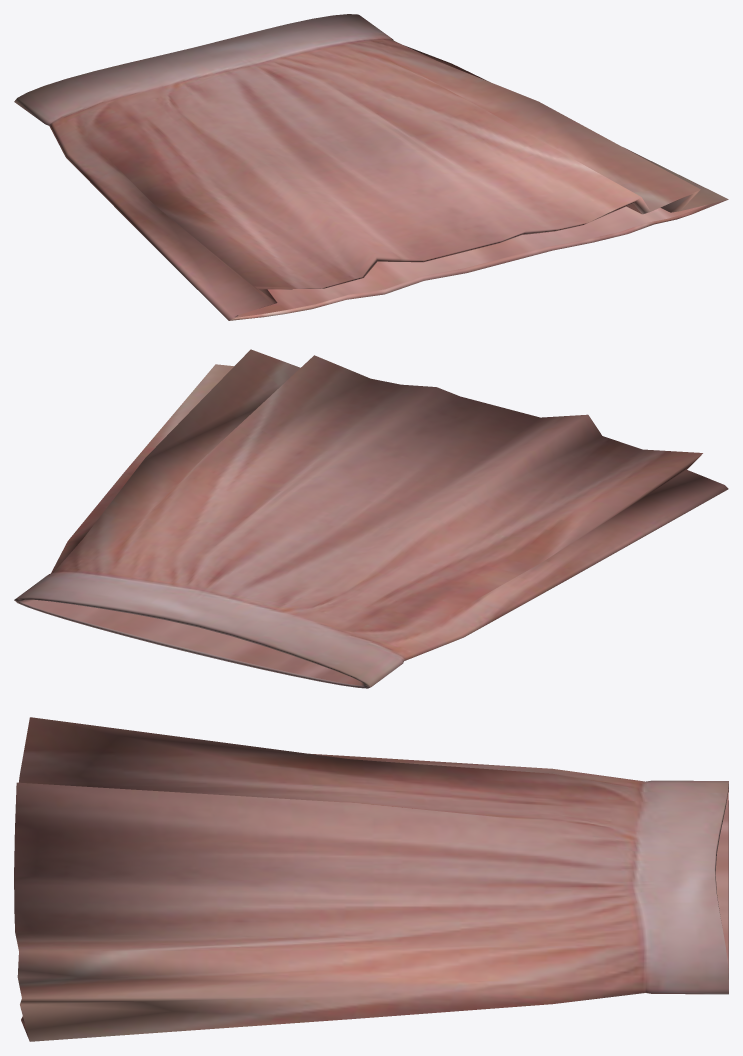
Rendered from jupe.obj.
The picture shows the model from 3 angles, top to bottom: view 1: azimuth 30°, elevation 25°; view 2: azimuth 150°, elevation 25°; view 3: azimuth 270°, elevation 25°; orthographic projection. The views are drawn at different scales.
Visible parts, largest first — view 1: Circle_Circle.001; view 2: Circle_Circle.001; view 3: Circle_Circle.001.
Boxes of the visible parts, x1=… form: Circle_Circle.001: x1=14, y1=14, x2=728, y2=320; Circle_Circle.001: x1=14, y1=349, x2=728, y2=688; Circle_Circle.001: x1=14, y1=717, x2=728, y2=1041.
Size of the model in its own units: 40.74 by 3.62 by 40.63.
